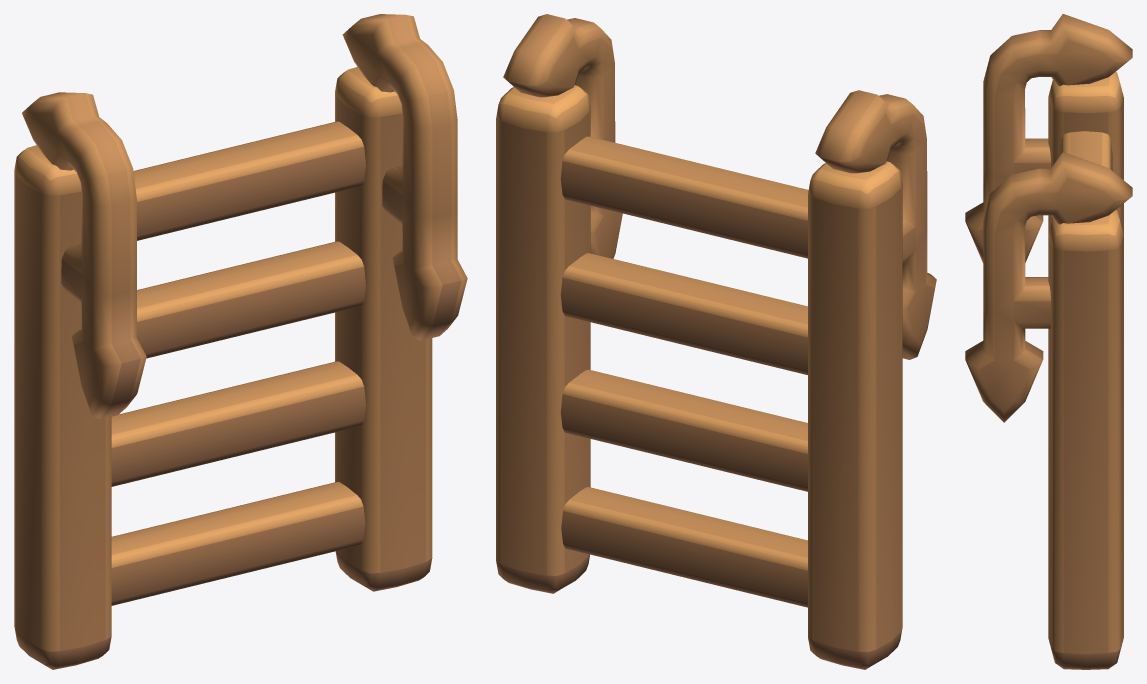
The model's file is Clay_Ladder_Top.fbx.
3 views of the same model, side by side, from view 1: azimuth 30°, elevation 25°; view 2: azimuth 150°, elevation 25°; view 3: azimuth 270°, elevation 25° (orthographic). The views are drawn at different scales.
Parts seen in each view (by area): view 1: Clay_Ladder_Top_LOD0; view 2: Clay_Ladder_Top_LOD0; view 3: Clay_Ladder_Top_LOD0.
Part boxes in pixels (<box>): Clay_Ladder_Top_LOD0: <box>14,14,467,669</box>; Clay_Ladder_Top_LOD0: <box>496,14,936,669</box>; Clay_Ladder_Top_LOD0: <box>965,14,1132,669</box>.
Size of what is drawn, in the model's own units: 0.8613 by 1.19 by 0.3586.
